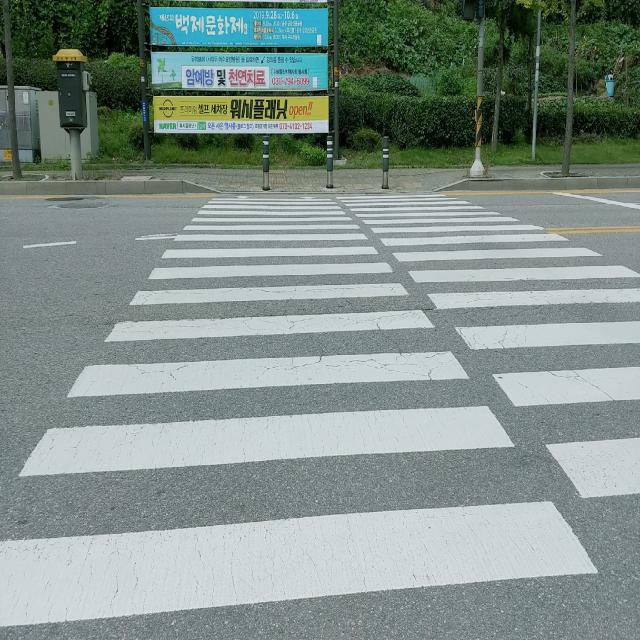횡단보도: (0, 192, 640, 640)
